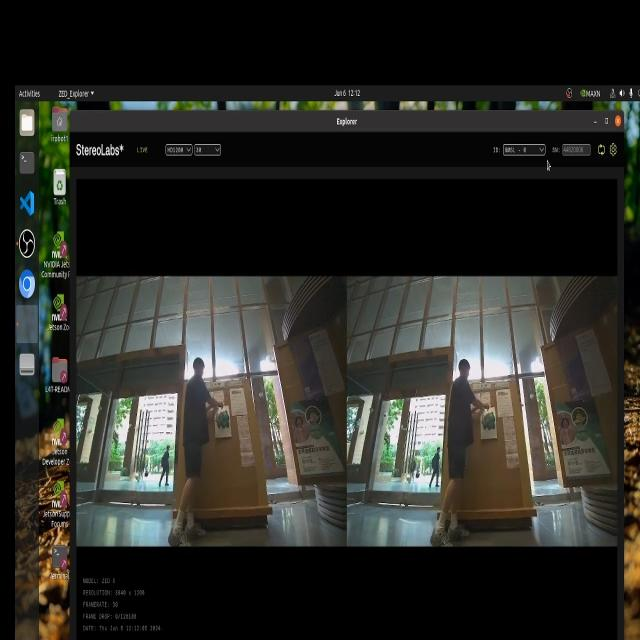green: (483, 411, 501, 451), (212, 408, 229, 428)
